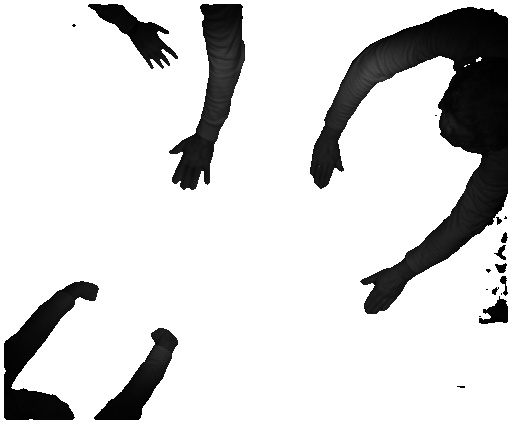fist: (144, 328, 183, 351), (73, 280, 103, 305)
hand: (129, 22, 183, 71), (360, 266, 408, 319), (168, 140, 216, 191), (304, 138, 343, 191)
